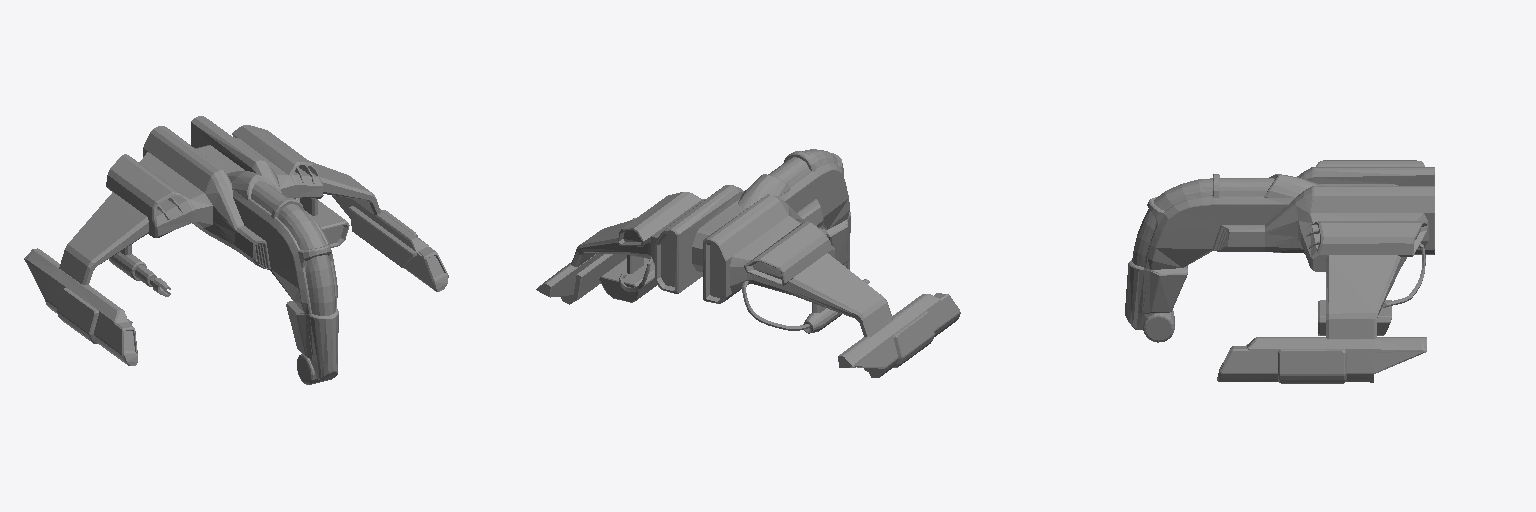
Rendered from betty.obj.
3 views of the same model, side by side, from view 1: azimuth 30°, elevation 25°; view 2: azimuth 150°, elevation 25°; view 3: azimuth 270°, elevation 25° (orthographic).
Visible parts, largest first — view 1: Betty; view 2: Betty; view 3: Betty.
Boxes of the visible parts, box(x1,y1,x2,y2) form: Betty: box(24, 116, 448, 384); Betty: box(536, 149, 960, 377); Betty: box(1125, 160, 1434, 383).
Bounding box in the file's own units: 1.81 × 0.8398 × 1.46.